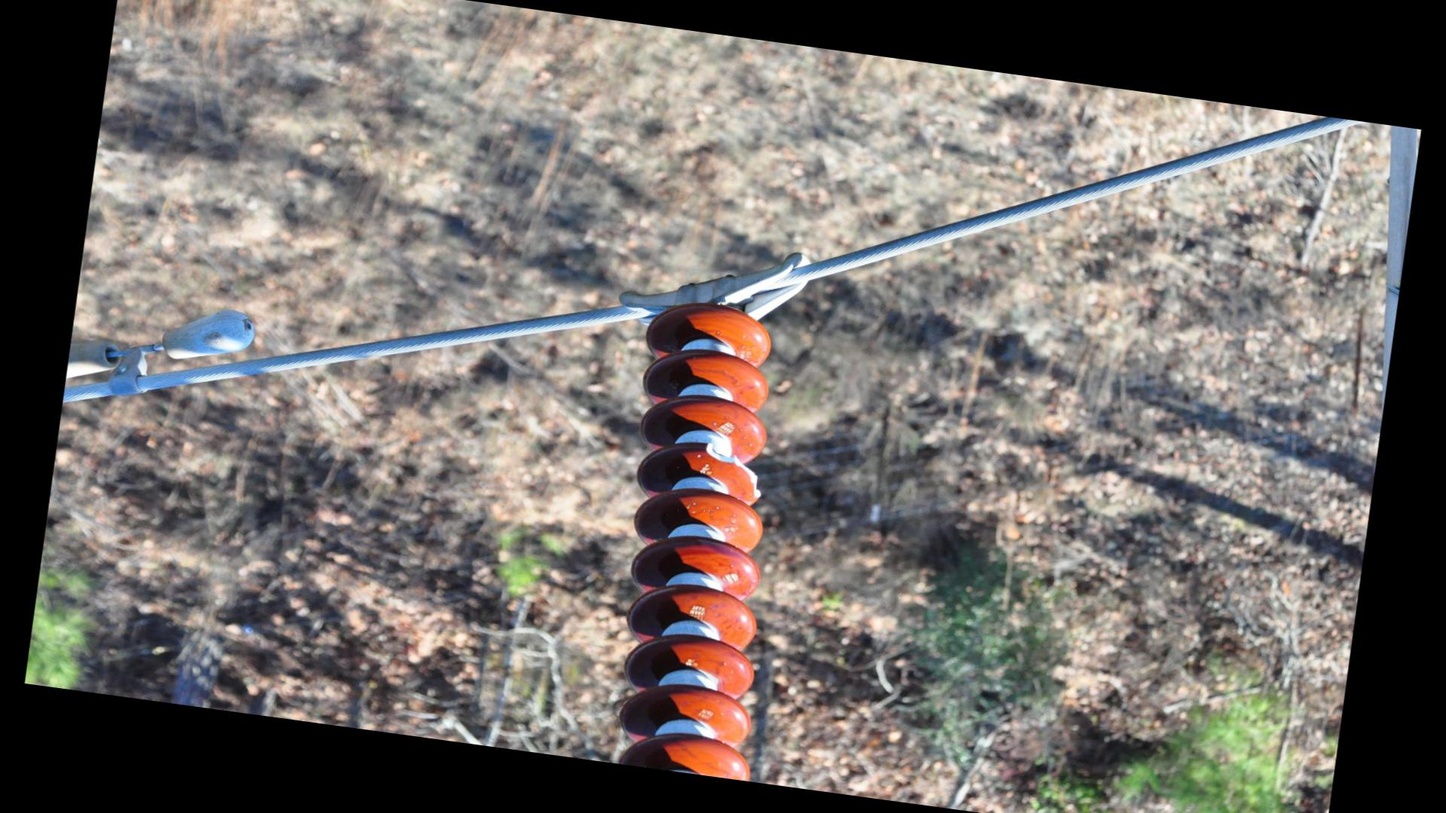damper: (63, 283, 265, 431)
